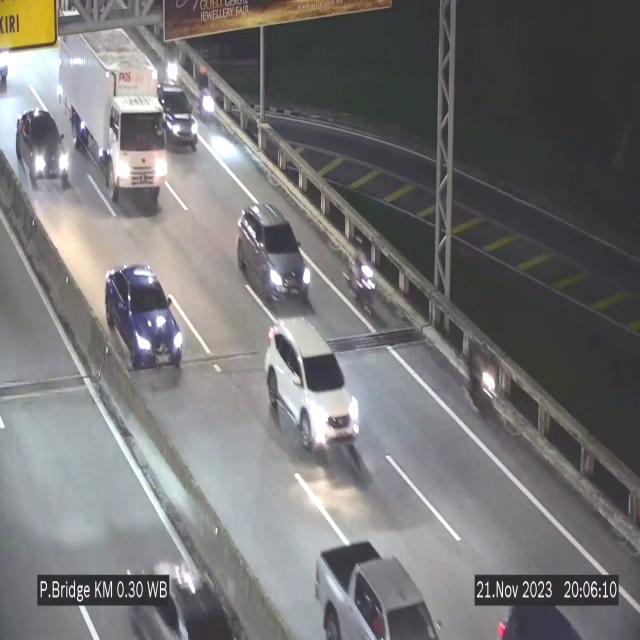Car: (304, 520, 442, 640), (265, 317, 359, 455), (134, 555, 245, 640), (103, 260, 185, 374), (238, 205, 310, 308), (13, 108, 69, 186), (158, 81, 199, 149)
Motorcycle: (466, 332, 500, 434), (348, 232, 378, 325), (194, 58, 214, 138), (162, 36, 182, 90)
Truck: (61, 30, 167, 210)
